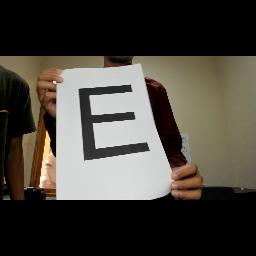e: (76, 82, 156, 164)
